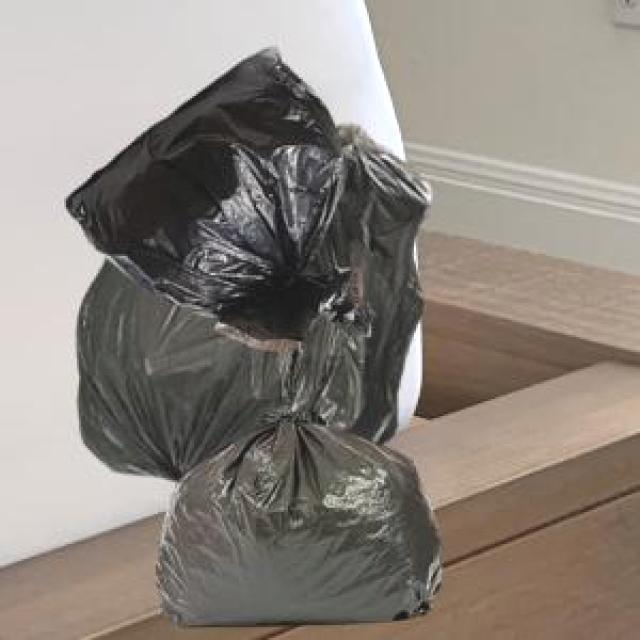Trashbag: (63, 40, 370, 354), (149, 401, 453, 632)
